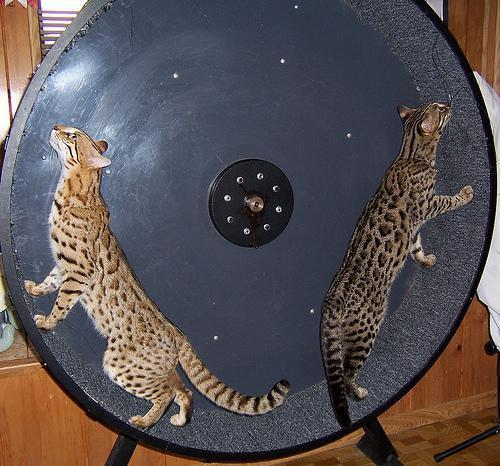cat: (24, 124, 289, 428), (319, 102, 472, 431)
